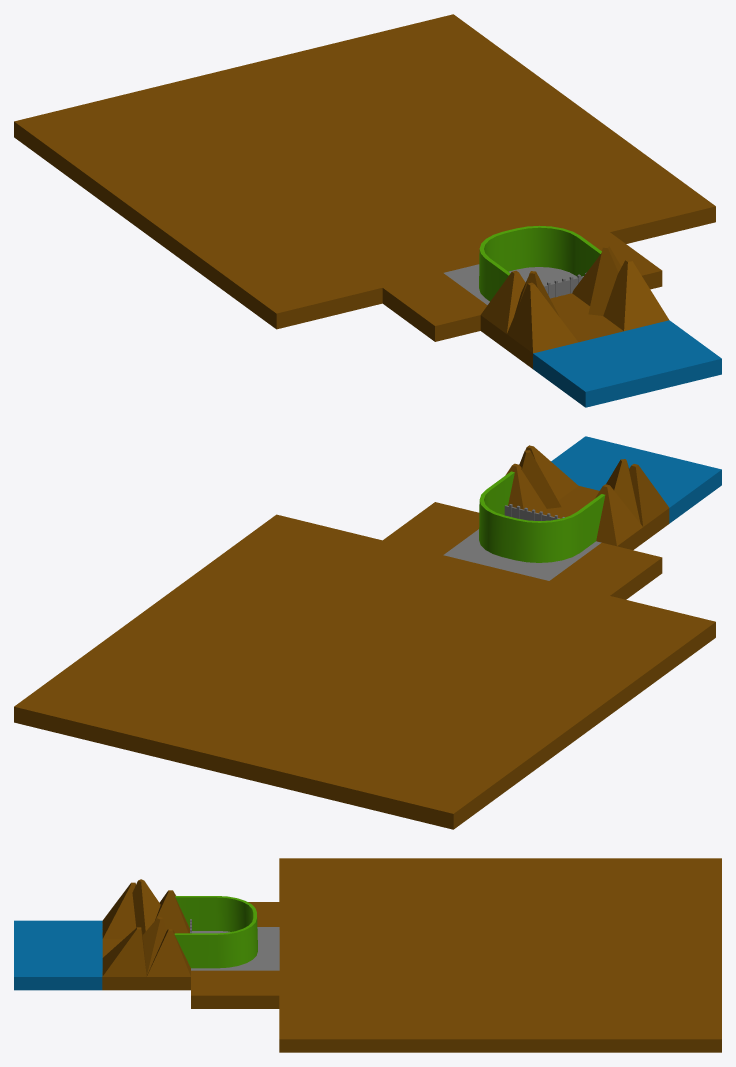
Rendered from Immersive Enviroment Proto1(1).fbx.
The picture shows the model from 3 angles, top to bottom: view 1: azimuth 30°, elevation 25°; view 2: azimuth 150°, elevation 25°; view 3: azimuth 270°, elevation 25°; orthographic projection. The views are drawn at different scales.
Parts seen in each view (by area): view 1: Cube.176, Cube.328, Cube.342, Cube.346, Cube.348, Cube.352, Cube.334, Cube.336, Cube.330, Cube.340, Cube.354, Cube.327 (+29 smaller); view 2: Cube.354, Cube.353, Cube.163, Cube.176, Cube.328, Cube.330, Cube.336, Cube.352, Cube.342, Cube.348, Cube.334, Cube.340 (+32 smaller); view 3: Cube.176, Cube.163, Cube.327, Cube.329, Cube.333, Cube.335, Cube.339, Cube.341, Cube.345, Cube.347, Cube.351, Cube.353 (+32 smaller).
Part boxes in pixels (x1,y1,x2,y2): Cube.176: (533,320,721,407); Cube.328: (250,246,472,329); Cube.342: (119,150,341,232); Cube.346: (92,131,315,213); Cube.348: (66,112,289,194); Cube.352: (40,92,262,175); Cube.334: (197,208,420,290); Cube.336: (171,188,394,271); Cube.330: (224,227,446,309); Cube.340: (145,169,367,252); Cube.354: (14,73,236,155); Cube.327: (530,187,715,243); Cube.354: (256,746,479,829); Cube.353: (14,687,236,770); Cube.163: (479,471,605,562); Cube.176: (551,436,721,523); Cube.328: (493,573,715,656); Cube.330: (467,593,689,675); Cube.336: (414,631,637,713); Cube.352: (283,727,505,810); Cube.342: (362,670,584,752); Cube.348: (309,708,532,790); Cube.334: (441,612,663,694); Cube.340: (388,650,610,733); Cube.176: (14,920,102,990); Cube.163: (174,896,257,968); Cube.327: (279,958,323,1052); Cube.329: (323,958,367,1052); Cube.333: (368,958,412,1052); Cube.335: (412,958,456,1052); Cube.339: (456,958,500,1052); Cube.341: (500,958,544,1052); Cube.345: (545,958,589,1052); Cube.347: (589,958,633,1052); Cube.351: (633,958,677,1052); Cube.353: (677,958,721,1052).
Size of the model in its own units: 5800 by 942 by 9600.
